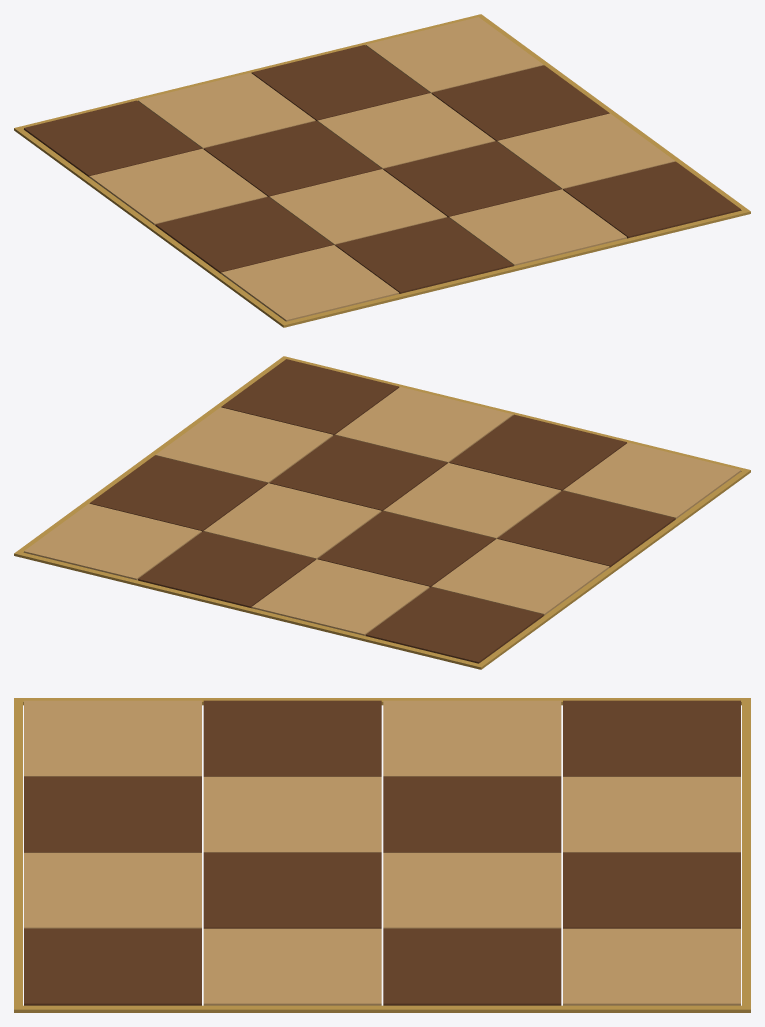
The model's file is hospitality.function.dance_floor.glb.
3 views of the same model, one above another, from view 1: azimuth 30°, elevation 25°; view 2: azimuth 150°, elevation 25°; view 3: azimuth 270°, elevation 25° (orthographic). The views are drawn at different scales.
Visible parts, largest first — view 1: main__glulam, main__hardwood, main__brass; view 2: main__hardwood, main__glulam, main__brass; view 3: main__glulam, main__hardwood, main__brass.
Boxes of the visible parts, x1=… form: main__glulam: x1=89, y1=17, x2=675, y2=321; main__hardwood: x1=24, y1=45, x2=740, y2=293; main__brass: x1=14, y1=14, x2=750, y2=327; main__hardwood: x1=89, y1=359, x2=675, y2=663; main__glulam: x1=24, y1=387, x2=740, y2=635; main__brass: x1=14, y1=356, x2=750, y2=669; main__glulam: x1=24, y1=700, x2=740, y2=1005; main__hardwood: x1=24, y1=700, x2=740, y2=1005; main__brass: x1=14, y1=698, x2=750, y2=1012.
Bounding box in the file's own units: 4.1 × 0.03 × 4.1.
